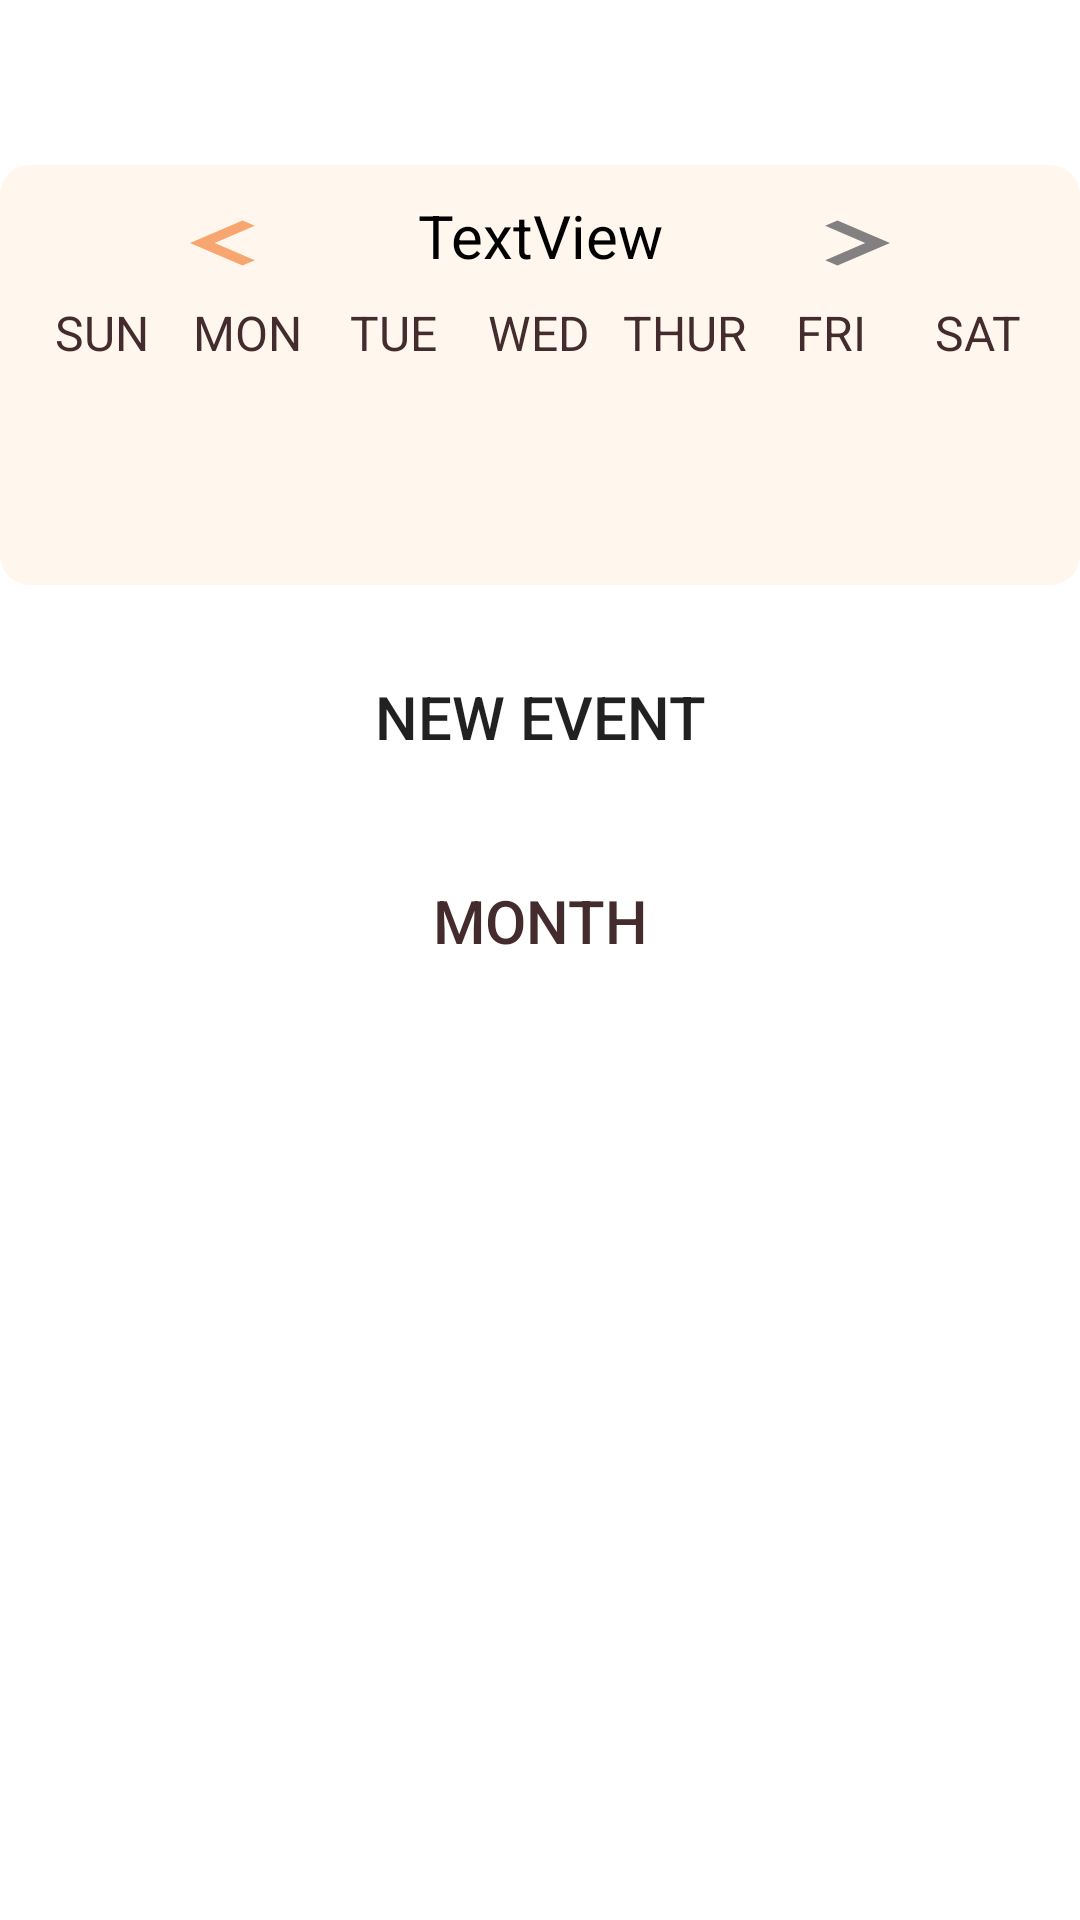

Point at icon controls on the screen. Image size 1080 × 1920, points as point (x, y).
keyboard arrow left: point (222, 243)
keyboard arrow right: point (857, 243)
